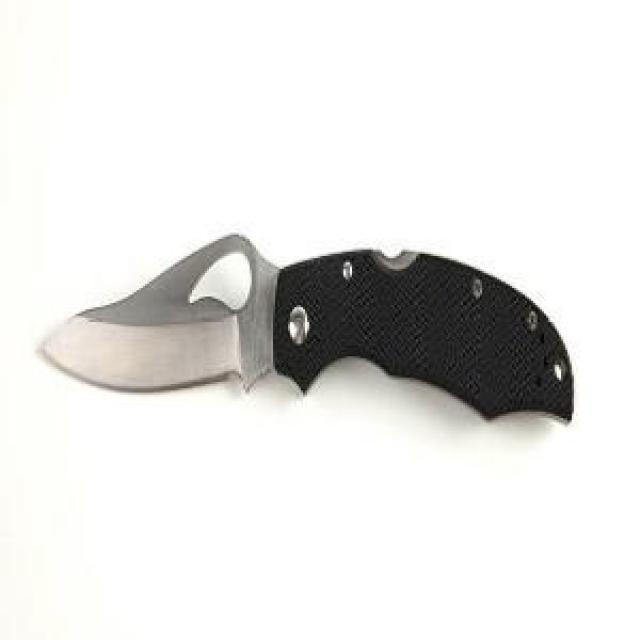knife: (38, 234, 576, 428)
